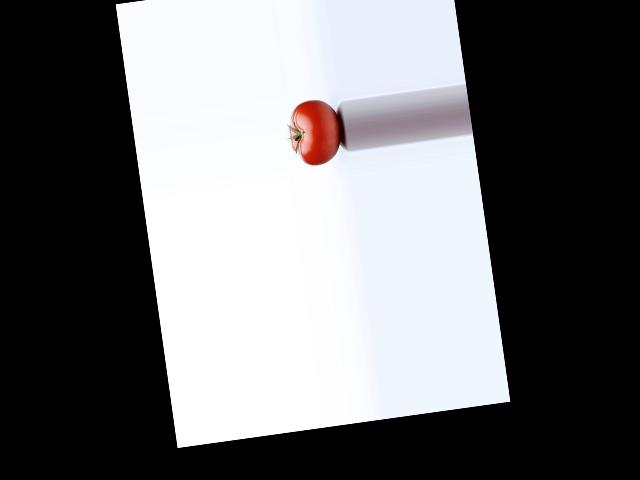tomato: (285, 97, 344, 168)
